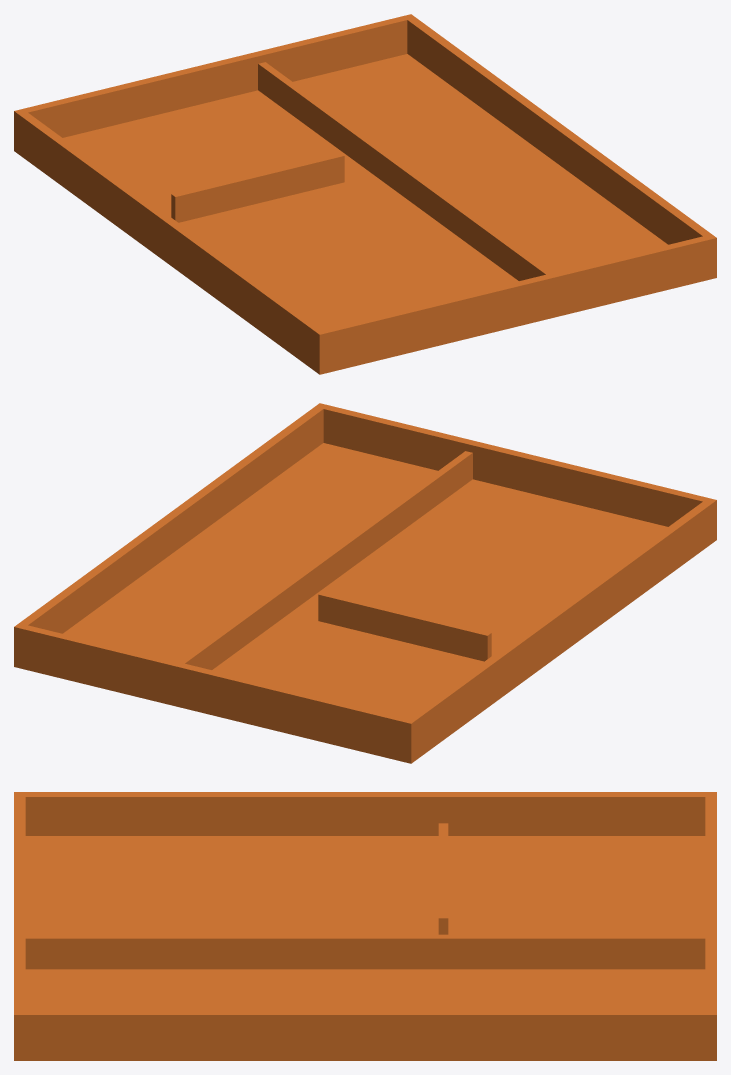
Rendered from lunch_tray.glb.
The picture shows the model from 3 angles, top to bottom: view 1: azimuth 30°, elevation 25°; view 2: azimuth 150°, elevation 25°; view 3: azimuth 270°, elevation 25°; orthographic projection. The views are drawn at different scales.
Parts seen in each view (by area): view 1: LunchTray; view 2: LunchTray; view 3: LunchTray.
Boxes of the visible parts, x1=… form: LunchTray: x1=14, y1=14, x2=716, y2=374; LunchTray: x1=14, y1=403, x2=716, y2=763; LunchTray: x1=14, y1=792, x2=716, y2=1060.
Size of the model in its own units: 0.27 by 0.026 by 0.36.
